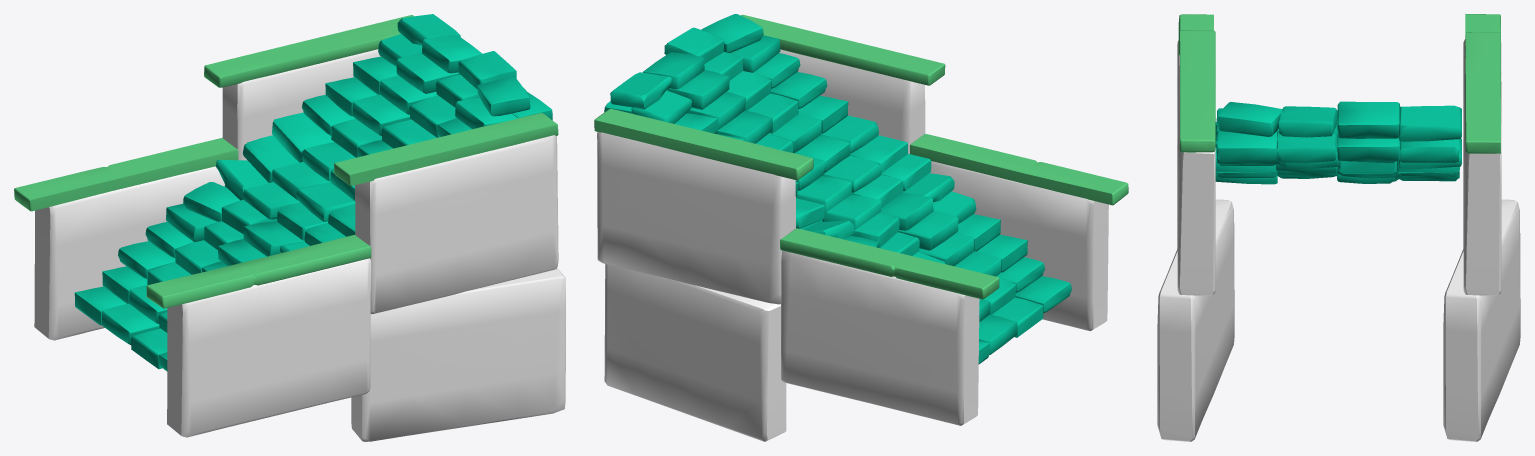
Rendered from stairs02.fbx.
3 renders of one model, left to right at view 1: azimuth 30°, elevation 25°; view 2: azimuth 150°, elevation 25°; view 3: azimuth 270°, elevation 25°, orthographic. The views are drawn at different scales.
Parts seen in each view (by area): view 1: basic_stairs02; view 2: basic_stairs02; view 3: basic_stairs02.
Part boxes in pixels (x1,y1,x2,y2): basic_stairs02: (14,14,565,441); basic_stairs02: (594,14,1128,441); basic_stairs02: (1157,14,1520,441).
Bounding box in the file's own units: 7.29 × 5.11 × 5.2.
